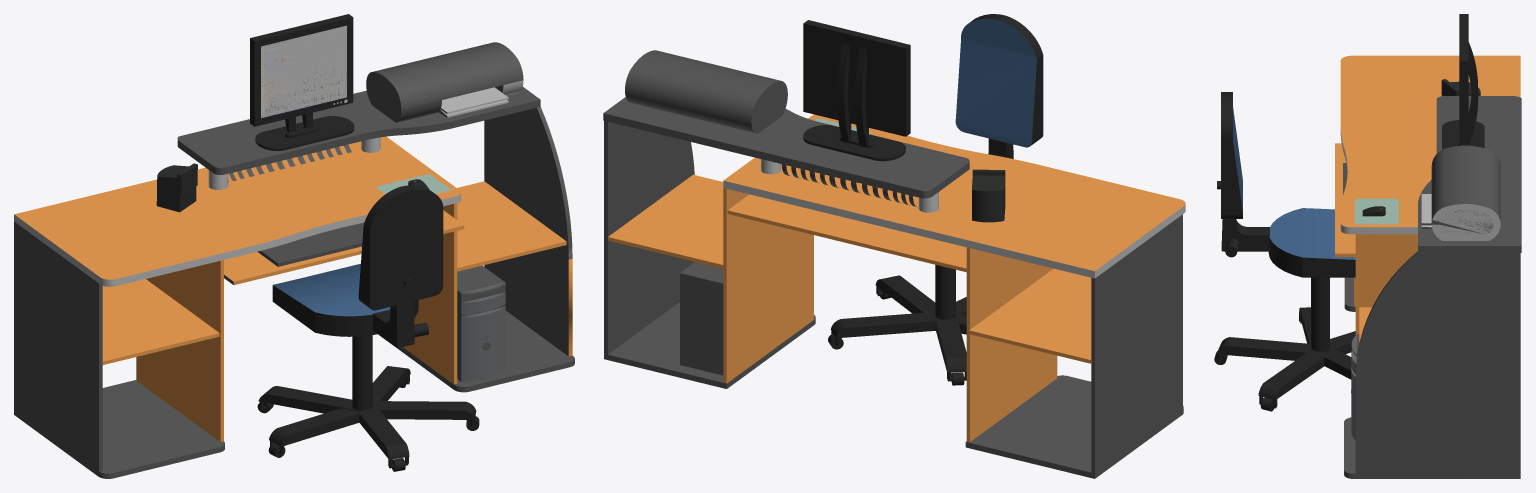
Rendered from computer_bureau.obj.
3 views of the same model, side by side, from view 1: azimuth 30°, elevation 25°; view 2: azimuth 150°, elevation 25°; view 3: azimuth 270°, elevation 25° (orthographic). The views are drawn at different scales.
Visible parts, largest first — view 1: Mesh10 Group1 Model, Mesh5 Group6 Group1 Model, Mesh56 Group37 Group9 Model, Mesh2 Group3 Group1 Model, Mesh1 Group2 Group1 Model, Mesh4 Group5 Group1 Model, Mesh28 Group10 Group9 Model, Mesh3 Group4 Group1 Model, Mesh17 Group1 Model, Mesh36 Group19 Group16 Group9 Model, Mesh41 Group24 Group21 Group9 Model, Mesh8 Group8 Group1 Model (+6 smaller); view 2: Mesh10 Group1 Model, Mesh5 Group6 Group1 Model, Mesh2 Group3 Group1 Model, Mesh55 Group38 Group37 Group9 Model, Mesh1 Group2 Group1 Model, Mesh4 Group5 Group1 Model, Mesh3 Group4 Group1 Model, Mesh46 Group29 Group26 Group9 Model, Mesh8 Group8 Group1 Model, Mesh56 Group37 Group9 Model, Mesh51 Group34 Group31 Group9 Model, Mesh36 Group19 Group16 Group9 Model (+1 smaller); view 3: Mesh10 Group1 Model, Mesh28 Group10 Group9 Model, Mesh5 Group6 Group1 Model, Mesh56 Group37 Group9 Model, Mesh31 Group14 Group11 Group9 Model, Mesh36 Group19 Group16 Group9 Model, Mesh57 Group9 Model, Mesh58 Group9 Model, Mesh3 Group4 Group1 Model, Mesh46 Group29 Group26 Group9 Model, Mesh51 Group34 Group31 Group9 Model, Mesh55 Group38 Group37 Group9 Model (+1 smaller).
Part boxes in pixels (left/top/right/bottom): Mesh10 Group1 Model: left=14, top=42, right=574, bottom=478; Mesh5 Group6 Group1 Model: left=250, top=14, right=354, bottom=150; Mesh56 Group37 Group9 Model: left=358, top=185, right=443, bottom=310; Mesh2 Group3 Group1 Model: left=136, top=260, right=223, bottom=441; Mesh1 Group2 Group1 Model: left=102, top=279, right=219, bottom=364; Mesh4 Group5 Group1 Model: left=457, top=181, right=566, bottom=271; Mesh28 Group10 Group9 Model: left=272, top=263, right=418, bottom=336; Mesh3 Group4 Group1 Model: left=224, top=210, right=464, bottom=284; Mesh17 Group1 Model: left=257, top=222, right=364, bottom=266; Mesh36 Group19 Group16 Group9 Model: left=372, top=401, right=476, bottom=419; Mesh41 Group24 Group21 Group9 Model: left=269, top=408, right=366, bottom=446; Mesh8 Group8 Group1 Model: left=156, top=163, right=197, bottom=212; Mesh10 Group1 Model: left=603, top=50, right=1185, bottom=478; Mesh5 Group6 Group1 Model: left=803, top=20, right=910, bottom=161; Mesh2 Group3 Group1 Model: left=966, top=247, right=1057, bottom=441; Mesh55 Group38 Group37 Group9 Model: left=955, top=18, right=1036, bottom=147; Mesh1 Group2 Group1 Model: left=969, top=268, right=1091, bottom=363; Mesh4 Group5 Group1 Model: left=608, top=174, right=723, bottom=268; Mesh3 Group4 Group1 Model: left=727, top=194, right=966, bottom=272; Mesh46 Group29 Group26 Group9 Model: left=830, top=312, right=935, bottom=338; Mesh8 Group8 Group1 Model: left=972, top=169, right=1005, bottom=222; Mesh56 Group37 Group9 Model: left=970, top=14, right=1043, bottom=145; Mesh51 Group34 Group31 Group9 Model: left=934, top=314, right=966, bottom=372; Mesh36 Group19 Group16 Group9 Model: left=875, top=275, right=935, bottom=318; Mesh10 Group1 Model: left=1340, top=55, right=1521, bottom=478; Mesh28 Group10 Group9 Model: left=1268, top=208, right=1355, bottom=277; Mesh5 Group6 Group1 Model: left=1442, top=14, right=1484, bottom=149; Mesh56 Group37 Group9 Model: left=1221, top=92, right=1242, bottom=218; Mesh31 Group14 Group11 Group9 Model: left=1217, top=337, right=1316, bottom=360; Mesh36 Group19 Group16 Group9 Model: left=1258, top=351, right=1324, bottom=400; Mesh57 Group9 Model: left=1311, top=277, right=1329, bottom=351; Mesh58 Group9 Model: left=1221, top=219, right=1269, bottom=251; Mesh3 Group4 Group1 Model: left=1335, top=143, right=1355, bottom=256; Mesh46 Group29 Group26 Group9 Model: left=1318, top=349, right=1351, bottom=379; Mesh51 Group34 Group31 Group9 Model: left=1323, top=331, right=1355, bottom=354; Mesh55 Group38 Group37 Group9 Model: left=1233, top=108, right=1242, bottom=211.
Bounding box in the file's own units: 88.76 × 61.75 × 50.84.
11 materials, 1 textured.
